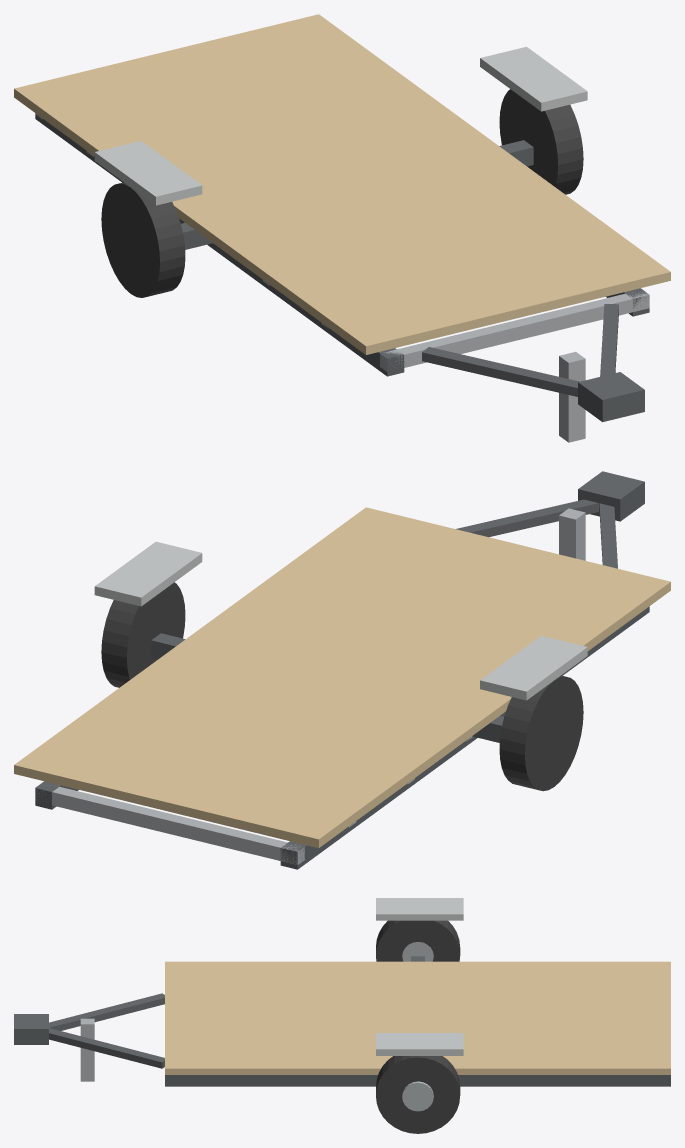
File: foundation-base.glb
3 views of the same model, one above another, from view 1: azimuth 30°, elevation 25°; view 2: azimuth 150°, elevation 25°; view 3: azimuth 270°, elevation 25° (orthographic). The views are drawn at different scales.
Visible parts, largest first — view 1: 6x12 plywood trailer deck, left trailer wheel.004, right trailer wheel.004, steel crossmember y=0.004, left simple metal fender.004, right simple metal fender.004, left A-frame hitch rail.004, off-the-shelf hitch coupler.004, left steel frame rail.004, simple jack stand.004, right A-frame hitch rail.004, single axle bar.004; view 2: 6x12 plywood trailer deck, left trailer wheel.004, right trailer wheel.004, steel crossmember y=141.004, right simple metal fender.004, left simple metal fender.004, left steel frame rail.004, off-the-shelf hitch coupler.004, right A-frame hitch rail.004, simple jack stand.004, single axle bar.004, left A-frame hitch rail.004; view 3: 6x12 plywood trailer deck, right steel frame rail.004, right trailer wheel.004, left trailer wheel.004, left simple metal fender.004, right simple metal fender.004, right A-frame hitch rail.004, left A-frame hitch rail.004, off-the-shelf hitch coupler.004, simple jack stand.004, right trailer wheel galvanized hub.004, left trailer wheel galvanized hub.004.
Boxes of the visible parts, bbox=[...] form: 6x12 plywood trailer deck: bbox=[14, 14, 670, 354]; left trailer wheel.004: bbox=[101, 182, 185, 297]; right trailer wheel.004: bbox=[499, 89, 583, 194]; steel crossmember y=0.004: bbox=[380, 291, 649, 371]; left simple metal fender.004: bbox=[94, 141, 202, 205]; right simple metal fender.004: bbox=[480, 46, 587, 111]; left A-frame hitch rail.004: bbox=[422, 347, 579, 396]; off-the-shelf hitch coupler.004: bbox=[578, 372, 644, 422]; left steel frame rail.004: bbox=[35, 113, 404, 376]; simple jack stand.004: bbox=[559, 351, 585, 442]; right A-frame hitch rail.004: bbox=[600, 304, 618, 376]; single axle bar.004: bbox=[181, 140, 533, 249]; 6x12 plywood trailer deck: bbox=[14, 507, 670, 848]; left trailer wheel.004: bbox=[499, 675, 583, 791]; right trailer wheel.004: bbox=[101, 582, 185, 687]; steel crossmember y=141.004: bbox=[36, 786, 304, 864]; right simple metal fender.004: bbox=[94, 541, 202, 606]; left simple metal fender.004: bbox=[480, 635, 587, 700]; left steel frame rail.004: bbox=[280, 606, 649, 869]; off-the-shelf hitch coupler.004: bbox=[578, 471, 644, 521]; right A-frame hitch rail.004: bbox=[456, 499, 598, 537]; simple jack stand.004: bbox=[559, 508, 585, 560]; single axle bar.004: bbox=[151, 633, 503, 742]; left A-frame hitch rail.004: bbox=[599, 503, 617, 568]; 6x12 plywood trailer deck: bbox=[165, 961, 670, 1074]; right steel frame rail.004: bbox=[165, 1075, 670, 1086]; right trailer wheel.004: bbox=[376, 1056, 460, 1133]; left trailer wheel.004: bbox=[376, 920, 460, 961]; left simple metal fender.004: bbox=[376, 898, 463, 920]; right simple metal fender.004: bbox=[376, 1033, 463, 1055]; right A-frame hitch rail.004: bbox=[49, 1028, 164, 1068]; left A-frame hitch rail.004: bbox=[49, 993, 164, 1030]; off-the-shelf hitch coupler.004: bbox=[14, 1014, 48, 1044]; simple jack stand.004: bbox=[80, 1018, 94, 1081]; right trailer wheel galvanized hub.004: bbox=[402, 1081, 433, 1111]; left trailer wheel galvanized hub.004: bbox=[402, 942, 433, 961].
Size of the model in its own units: 2.59 by 0.8382 by 4.75.
